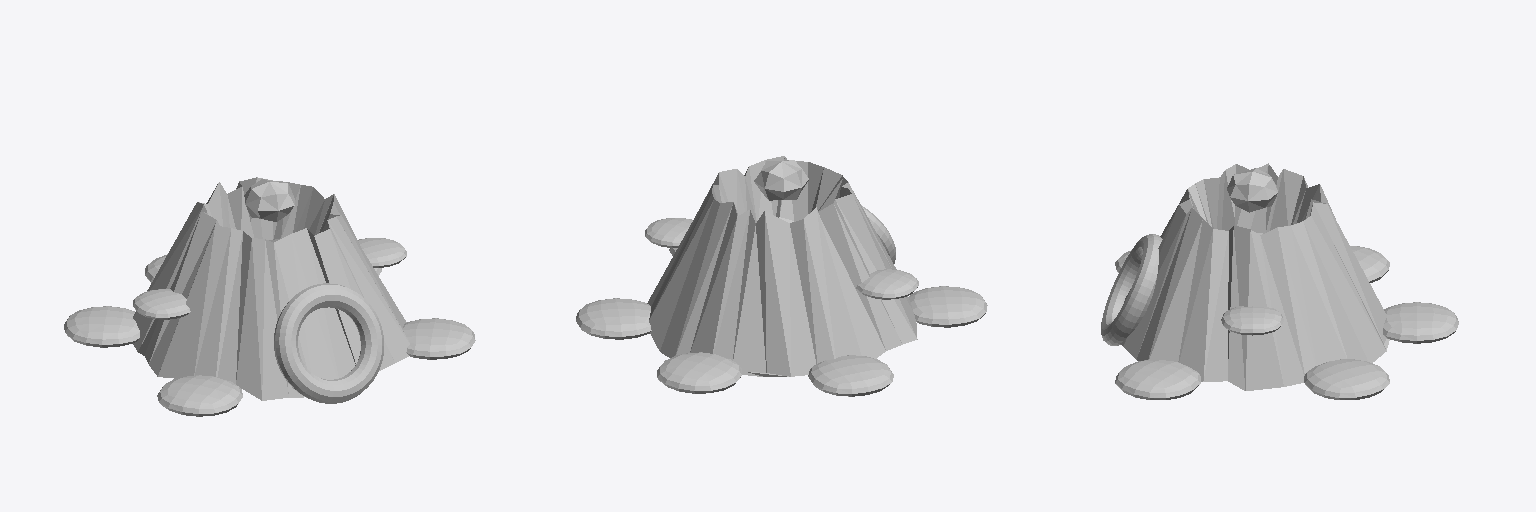
The model's file is structure_spawn.obj.
3 renders of one model, left to right at view 1: azimuth 30°, elevation 25°; view 2: azimuth 150°, elevation 25°; view 3: azimuth 270°, elevation 25°, orthographic.
Parts seen in each view (by area): view 1: Cylinder, Torus, Plane.001_Plane.002, Plane, Plane.002_Plane.003, Cube_Cube.001; view 2: Cylinder, Plane, Plane.001_Plane.002, Plane.003_Plane.001, Plane.002_Plane.003, Cube_Cube.001, Torus; view 3: Cylinder, Torus, Plane.001_Plane.002, Plane, Plane.003_Plane.001, Cube_Cube.001, Plane.002_Plane.003.
Boxes of the visible parts, box(x1,y1,x2,y2) form: Cylinder: box(133, 177, 409, 400); Torus: box(274, 283, 383, 403); Plane.001_Plane.002: box(64, 306, 475, 359); Plane: box(157, 268, 381, 416); Plane.002_Plane.003: box(133, 238, 406, 319); Cube_Cube.001: box(244, 179, 294, 221); Cylinder: box(647, 156, 917, 376); Plane: box(576, 286, 987, 339); Plane.001_Plane.002: box(669, 248, 893, 396); Plane.003_Plane.001: box(657, 352, 741, 393); Plane.002_Plane.003: box(645, 218, 918, 299); Cube_Cube.001: box(754, 160, 808, 200); Torus: box(861, 205, 895, 263); Cylinder: box(1120, 163, 1389, 390); Torus: box(1101, 234, 1162, 345); Plane.001_Plane.002: box(1115, 246, 1389, 399); Plane: box(1115, 250, 1389, 399); Plane.003_Plane.001: box(1383, 302, 1458, 343); Cube_Cube.001: box(1227, 168, 1277, 212); Plane.002_Plane.003: box(1221, 306, 1283, 335).
Size of the model in its own units: 3.02 by 1.58 by 3.04.